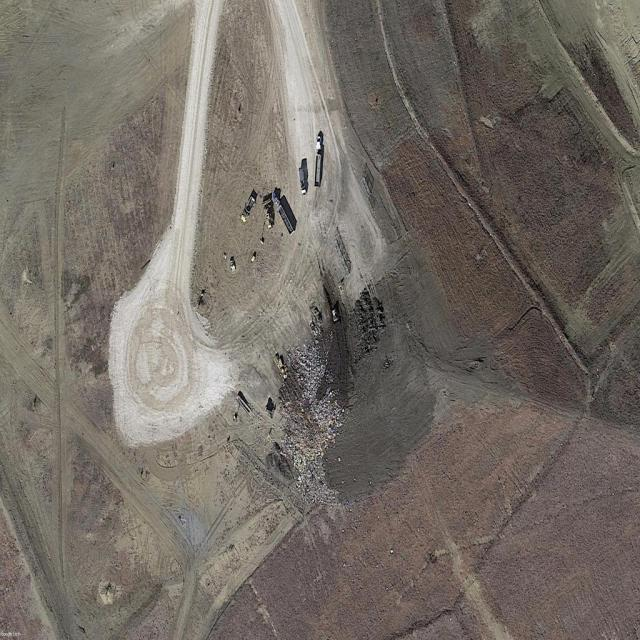dump_site: (257, 325, 369, 511)
